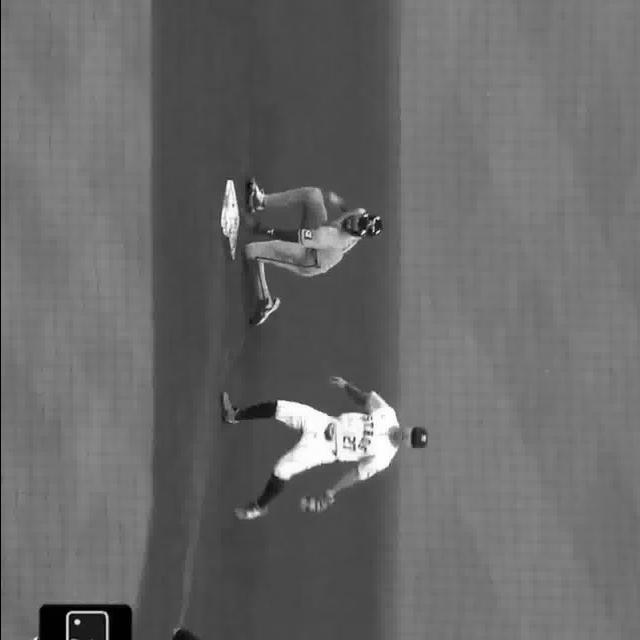base: (218, 178, 236, 262)
baseball_glove: (300, 490, 334, 514)
shoe: (246, 295, 278, 325), (232, 500, 268, 526), (244, 175, 264, 212), (218, 392, 238, 426)
